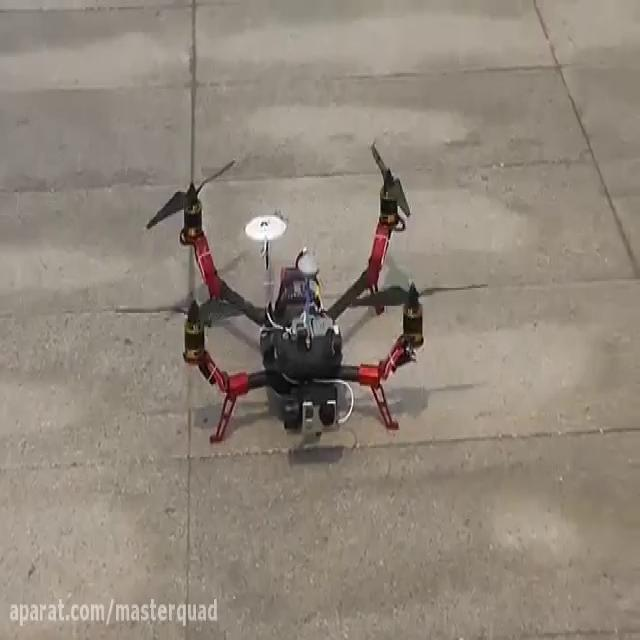drone: (117, 133, 492, 448)
